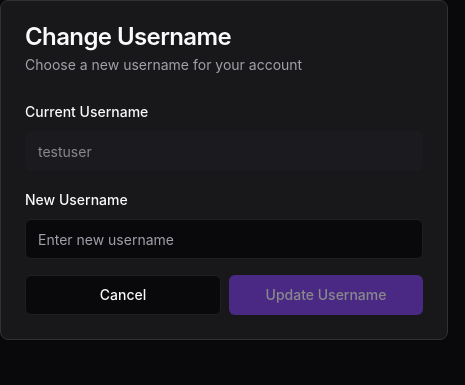
Scenario: UsernameChangeForm › validates username length
The width and height of the screenshot is (465, 385).
Type "ab" into the field with placeholder "Enter new username" at (224, 239), box [25, 219, 423, 259]
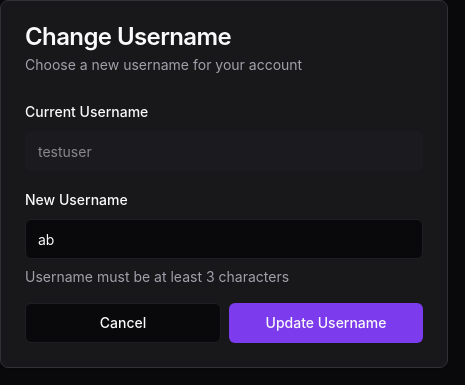
Expected: the text "Username must be at least 3 characters" is shown, [25, 268, 289, 285]
